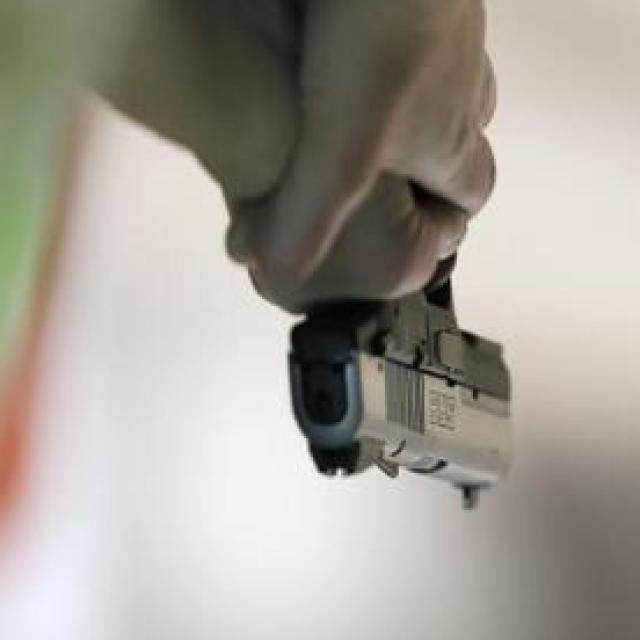pistol: (282, 145, 526, 526)
